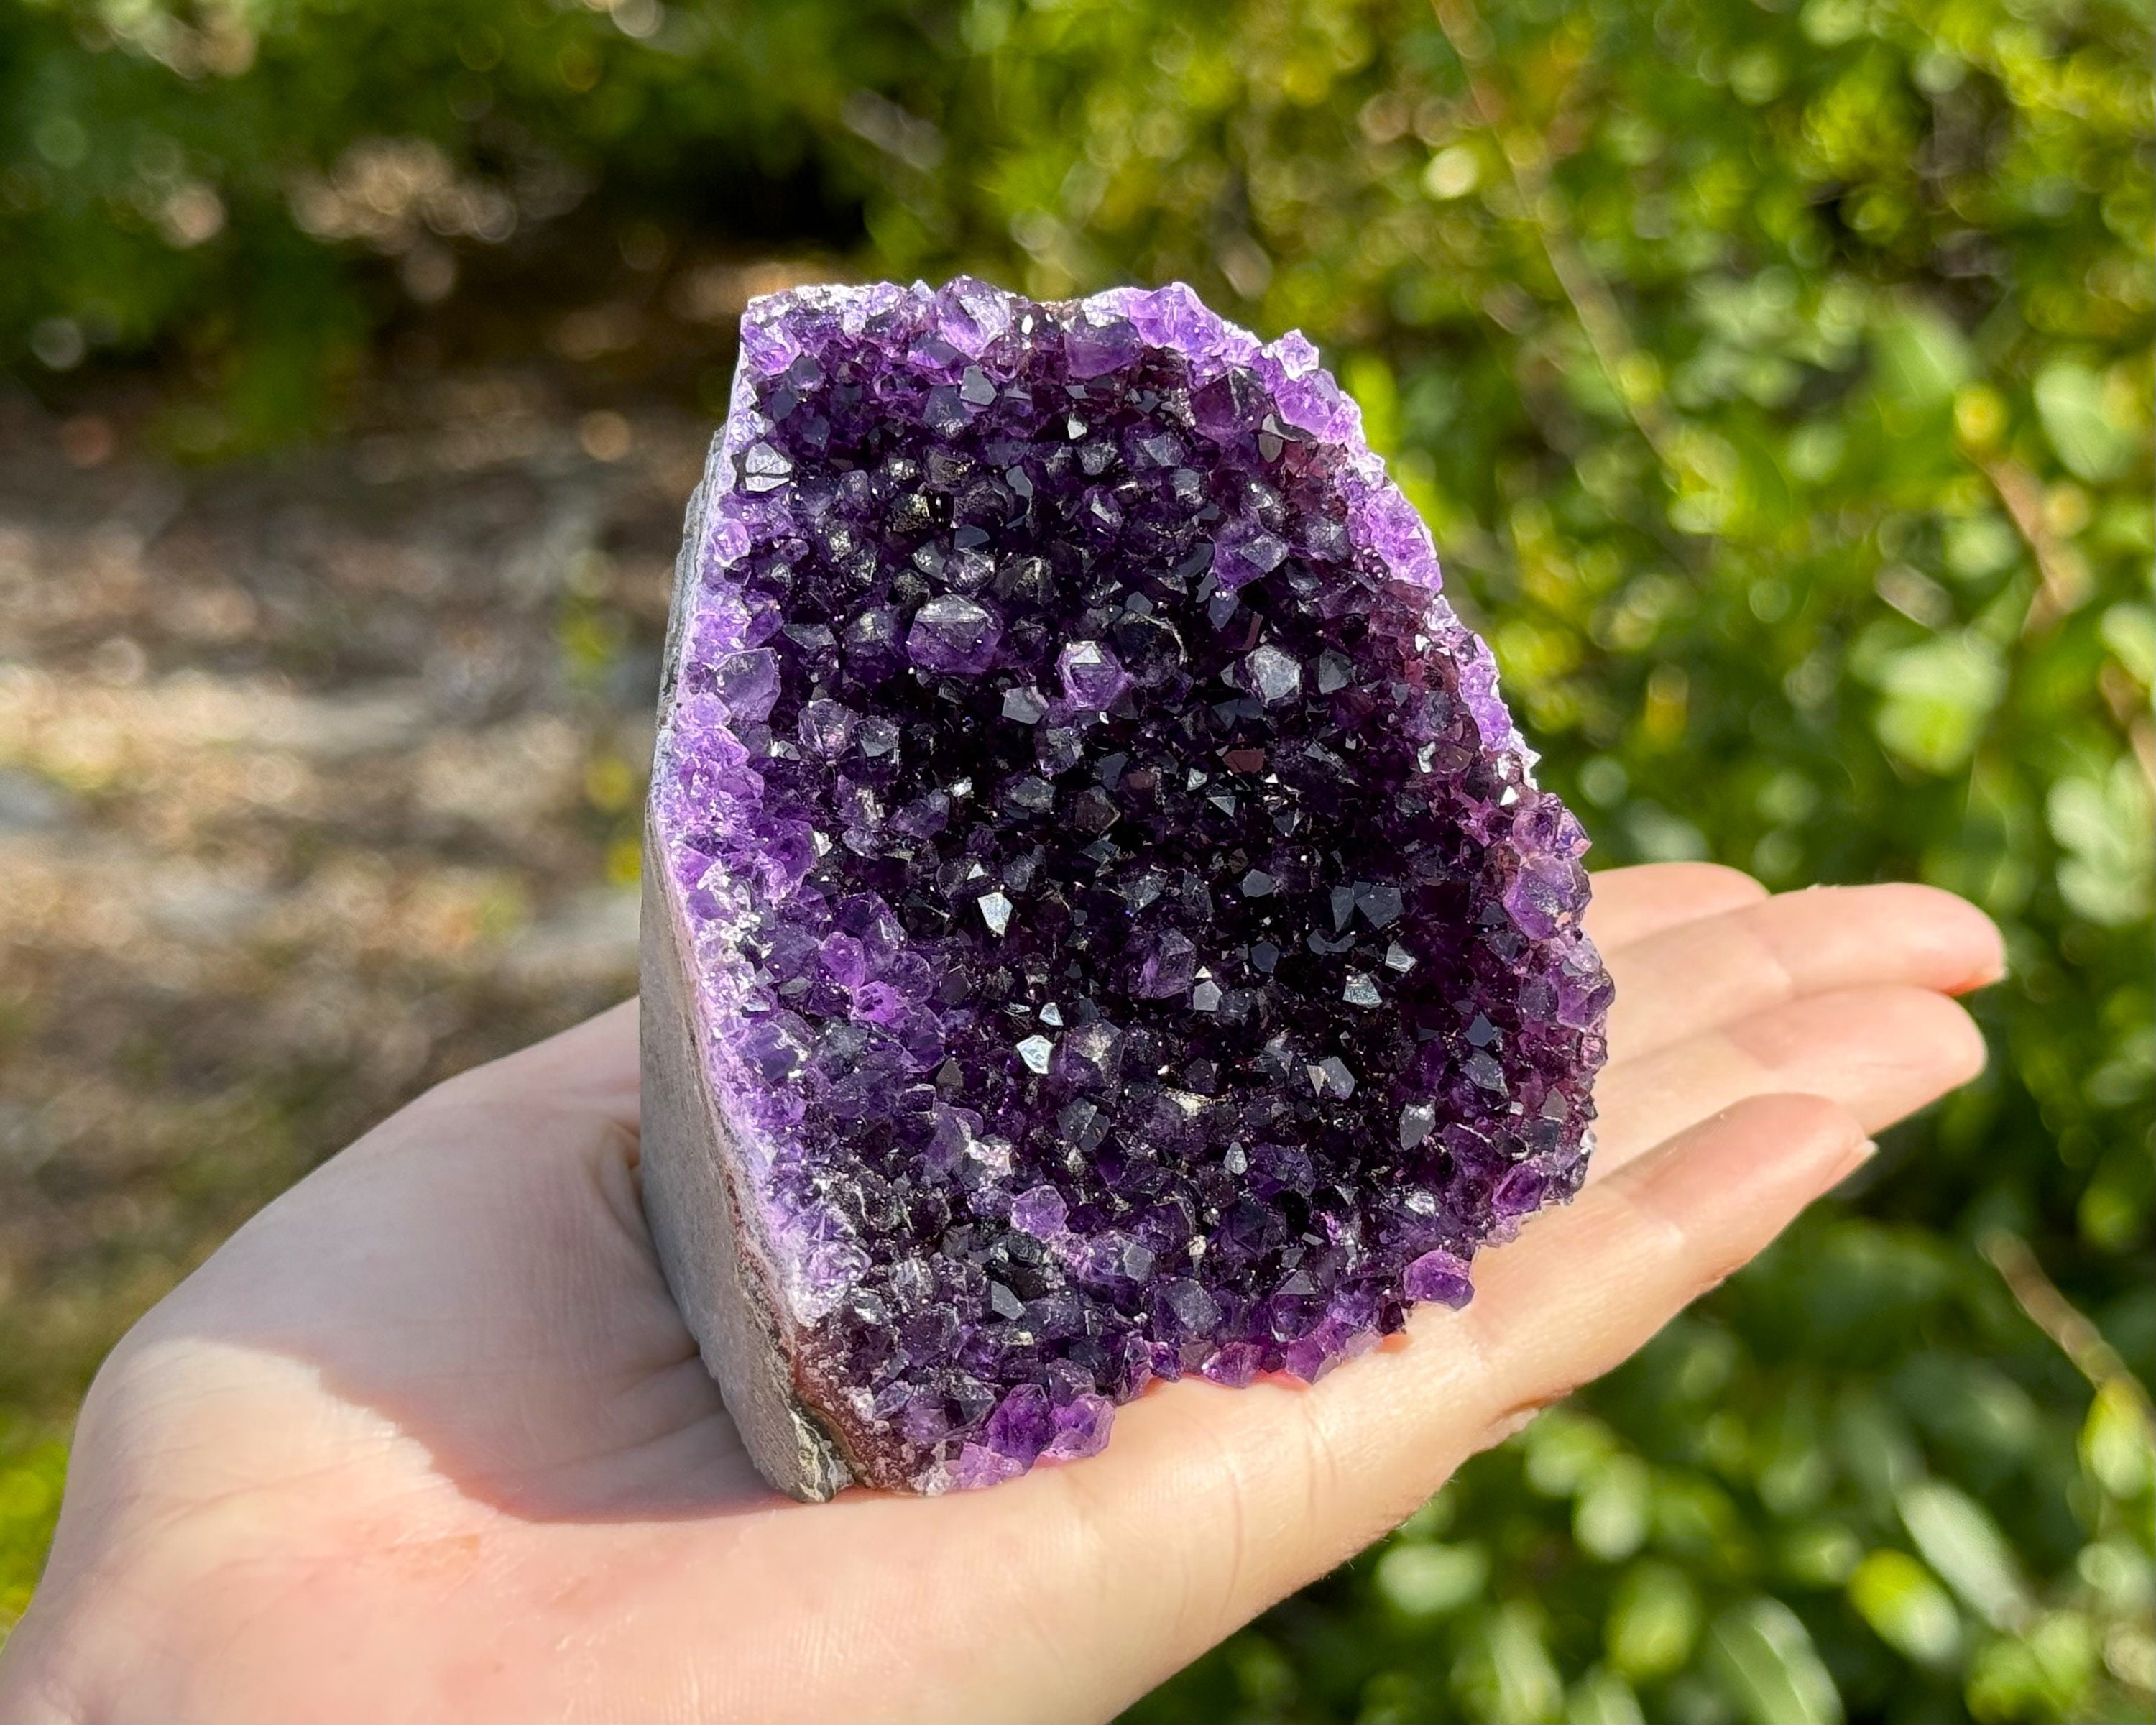Amethyst: (625, 269, 1621, 1509)
